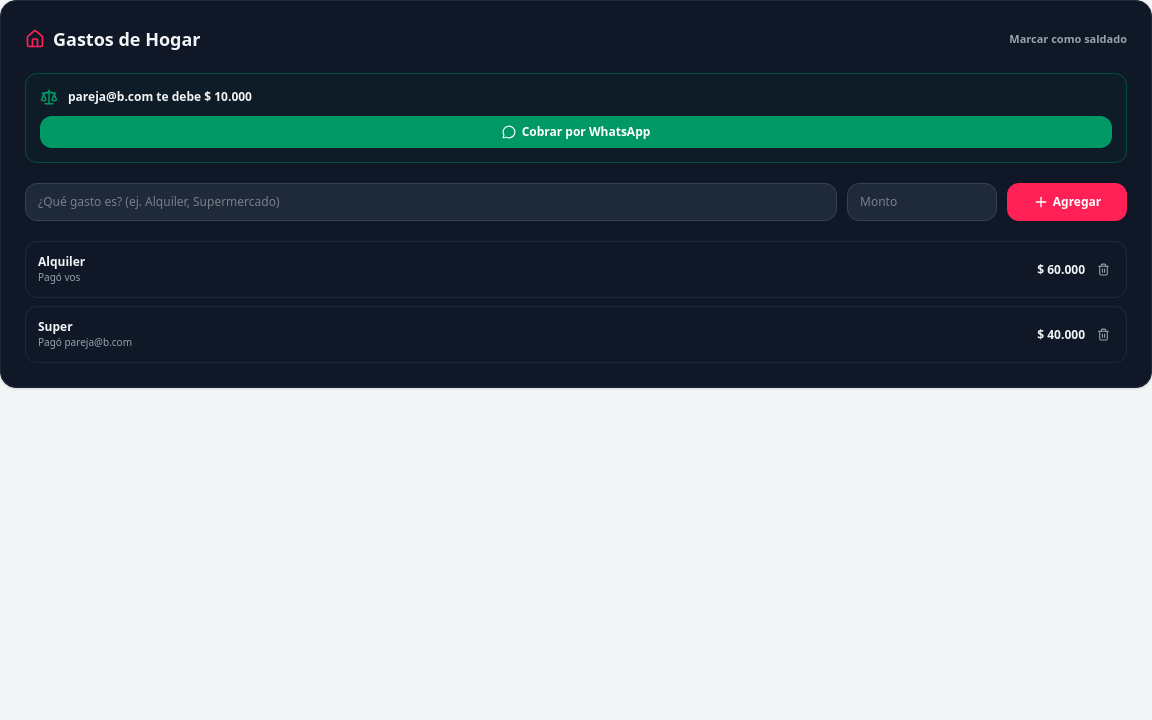
Test: HouseholdExpenses › "Marcar como saldado" muestra el monto exacto a transferir antes de confirmar
Expected: the text "Alquiler" is shown, x1=38 y1=253 x2=85 y2=270
What coordinates should you click on to do the following:
click the button "Marcar como saldado"
I would click on:
 (1068, 39)
Its box is x1=1009 y1=31 x2=1127 y2=47.
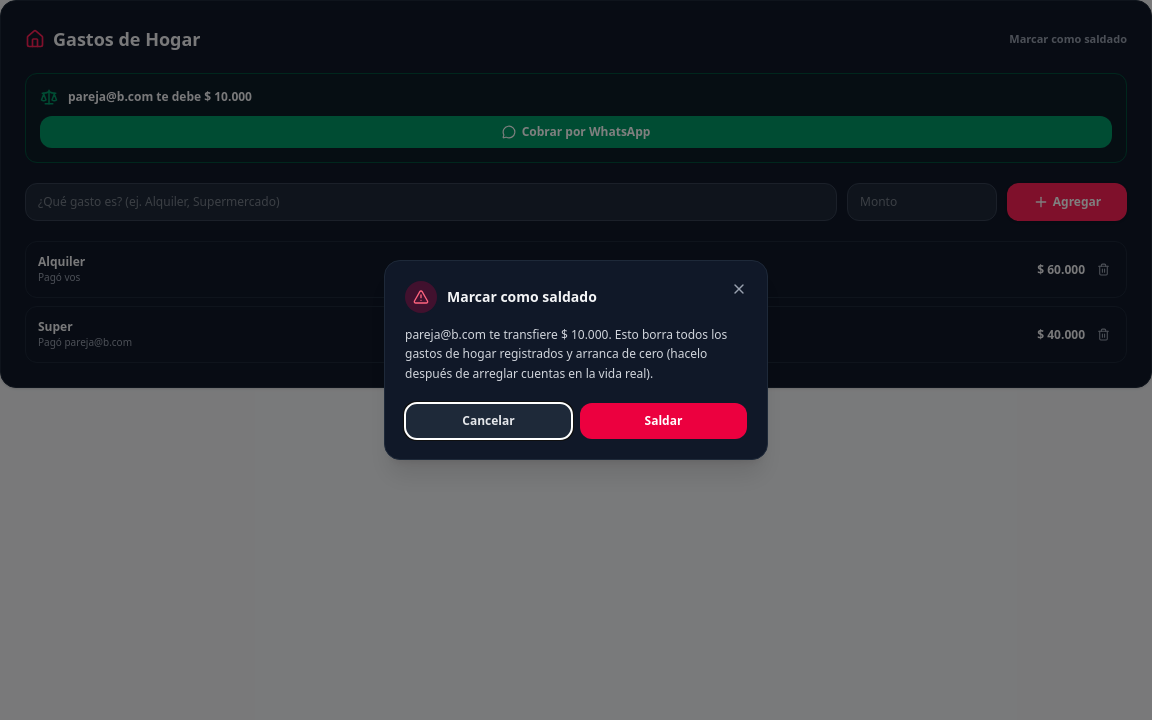
Now the text "10.000" is shown, box x1=405 y1=326 x2=727 y2=382
